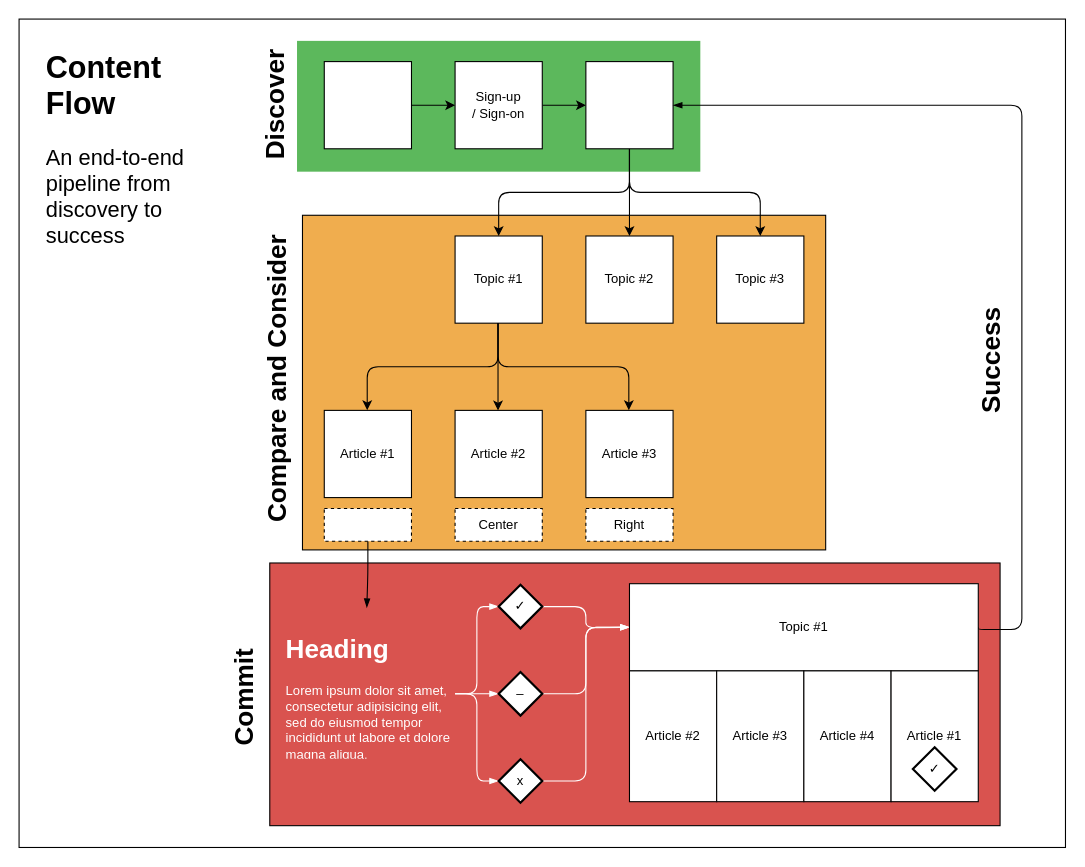
This 1085x867 diagram has some shape labels left out. The centre of each missing label's shape, as x and y in pixels:
Feed: the point at 629,104
Introduction Test: the point at 367,104
Left: the point at 367,524
